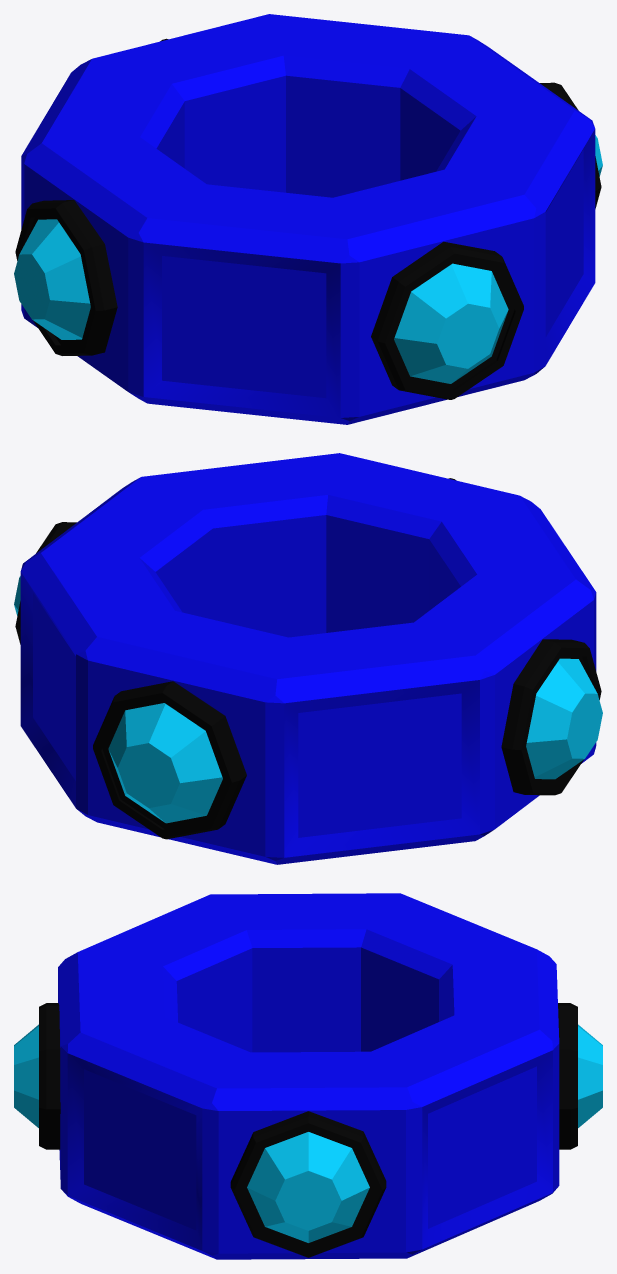
The model's file is NutBlue.fbx.
The picture shows the model from 3 angles, top to bottom: view 1: azimuth 30°, elevation 25°; view 2: azimuth 150°, elevation 25°; view 3: azimuth 270°, elevation 25°; orthographic projection. The views are drawn at different scales.
Visible parts, largest first — view 1: Triangle.001; view 2: Triangle.001; view 3: Triangle.001.
Part boxes in pixels (bbox=[...]): Triangle.001: bbox=[14, 14, 602, 424]; Triangle.001: bbox=[14, 453, 602, 864]; Triangle.001: bbox=[14, 893, 602, 1259].
Size of the model in its own units: 148 by 148 by 47.45.
Materials: 1 (1 with a texture image).
